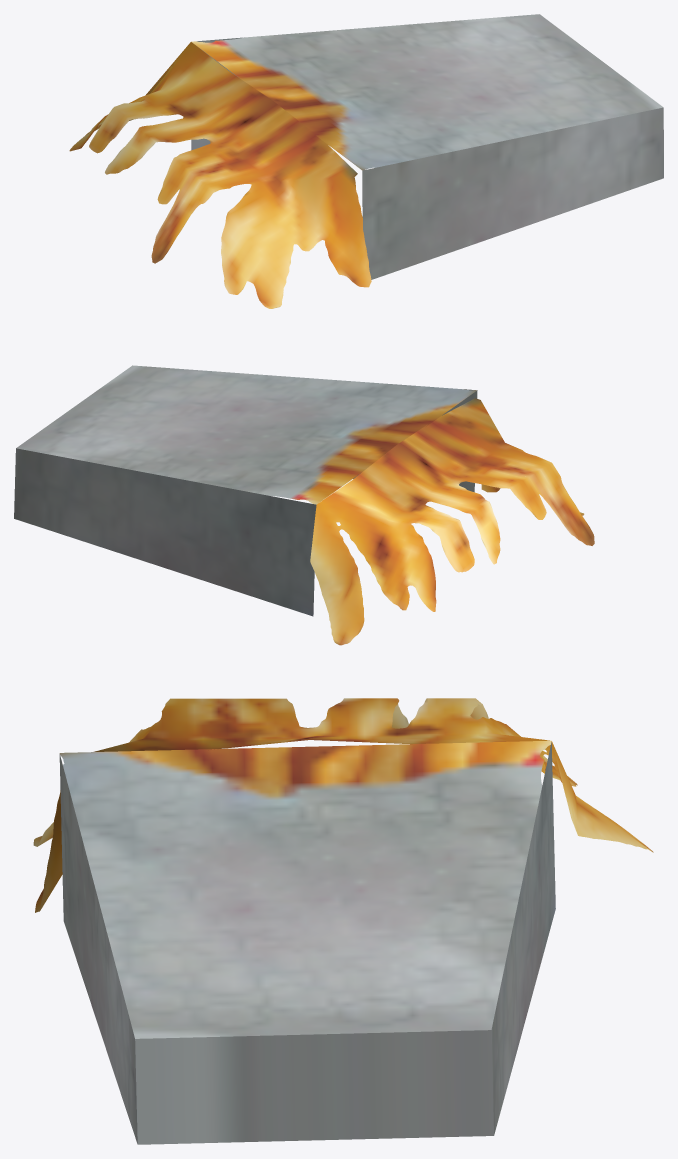
The model's file is fries.FBX.
The picture shows the model from 3 angles, top to bottom: view 1: azimuth 30°, elevation 25°; view 2: azimuth 150°, elevation 25°; view 3: azimuth 270°, elevation 25°; orthographic projection. The views are drawn at different scales.
Parts seen in each view (by area): view 1: fries; view 2: fries; view 3: fries.
Boxes of the visible parts, x1=… form: fries: x1=69, y1=14, x2=663, y2=308; fries: x1=14, y1=365, x2=594, y2=645; fries: x1=33, y1=698, x2=653, y2=1144.
Bounding box in the file's own units: 13.4 × 3.1 × 10.23.
